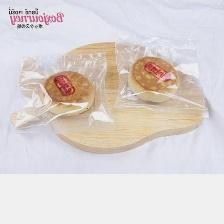snack: (3, 46, 119, 138), (108, 24, 216, 122)
